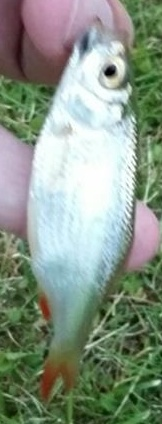Scardinius erythrophthalmus: (20, 20, 142, 404)
